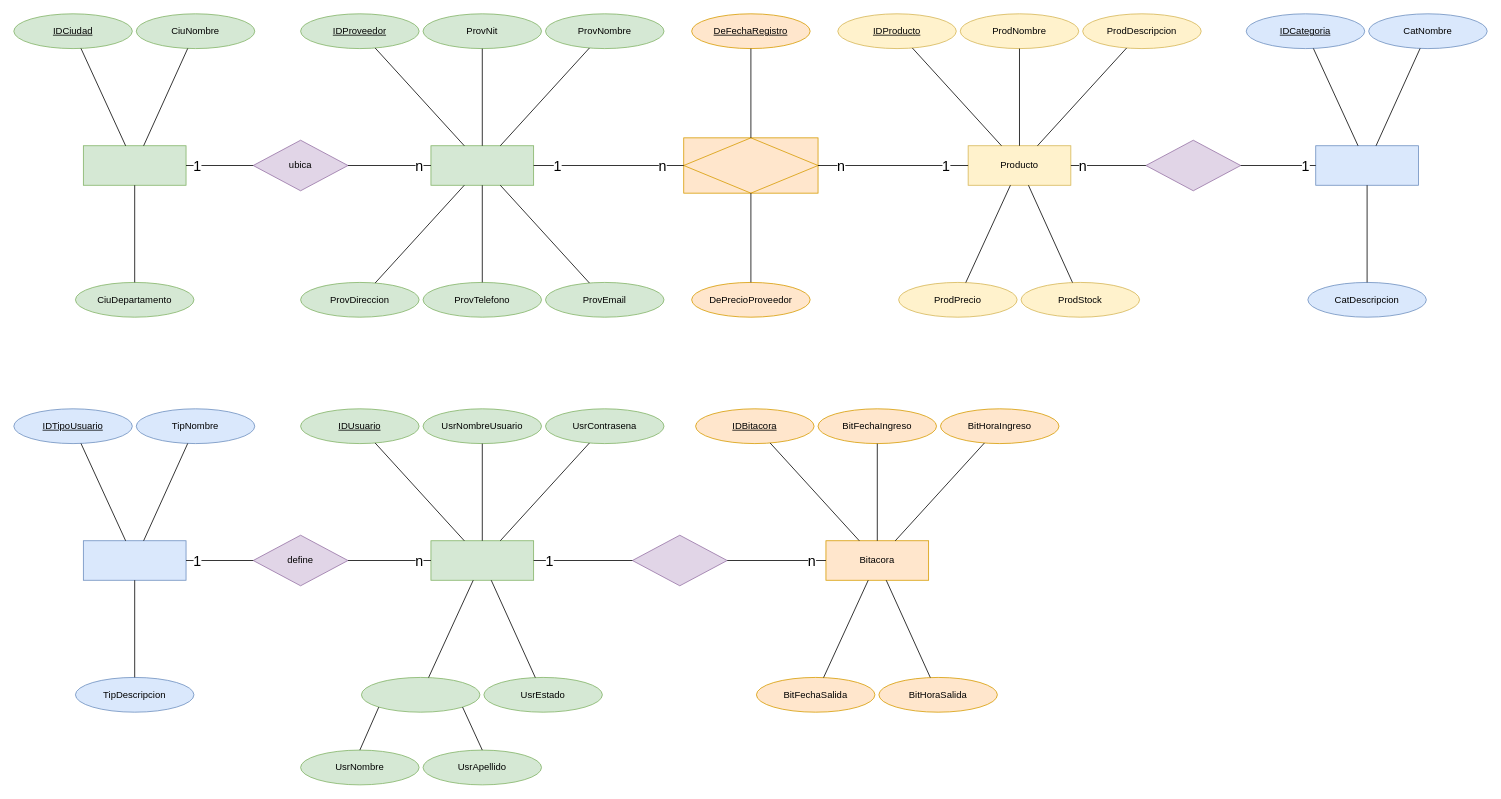
The diagram is 1501 pixels wide and 799 high, and some of its shapes have lost their labels. Here are the shapes that lost their labels. From the top down, the centre of each, then its label:
(x=134, y=165): Ciudad
(x=482, y=165): Proveedor
(x=750, y=165): DetalleProveedorProducto
(x=1193, y=165): clasifica
(x=1366, y=165): Categoria
(x=134, y=560): TipoUsuario
(x=482, y=560): Usuario
(x=679, y=560): genera
(x=420, y=694): UsrNombreCompleto
